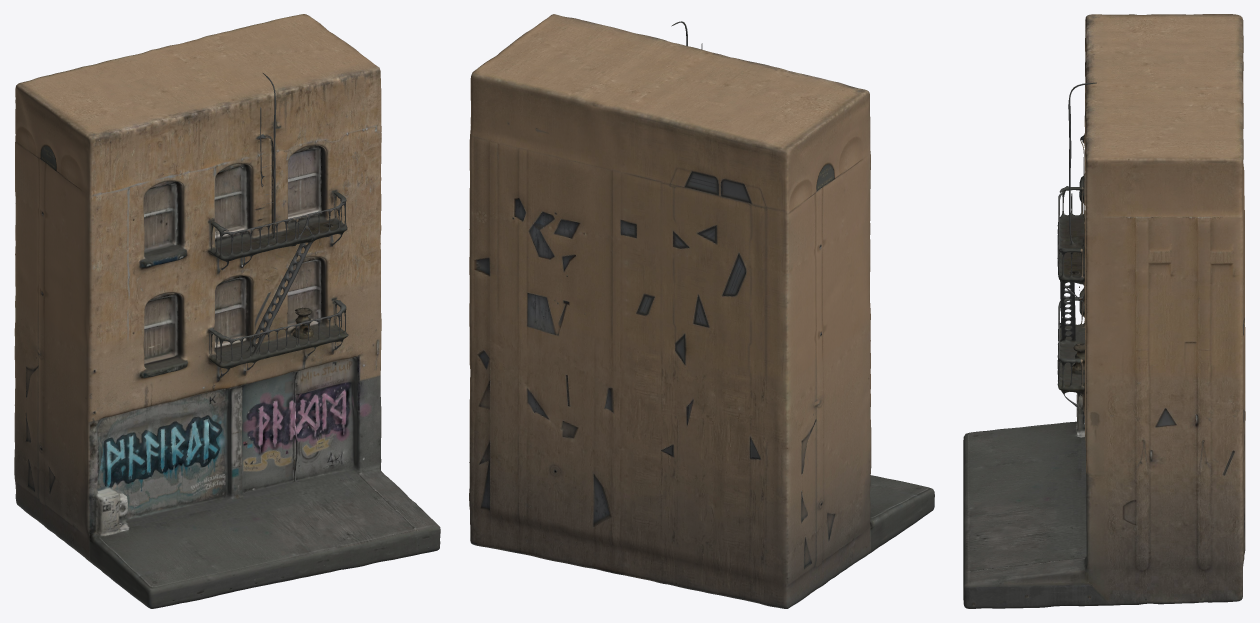
The model's file is arena-storefront.glb.
3 views of the same model, side by side, from view 1: azimuth 30°, elevation 25°; view 2: azimuth 150°, elevation 25°; view 3: azimuth 270°, elevation 25° (orthographic). The views are drawn at different scales.
Visible parts, largest first — view 1: tripo_node_9773d3e3; view 2: tripo_node_9773d3e3; view 3: tripo_node_9773d3e3.
Boxes of the visible parts, x1,y1,x2,y2 form: tripo_node_9773d3e3: [14, 14, 440, 608]; tripo_node_9773d3e3: [469, 14, 934, 608]; tripo_node_9773d3e3: [963, 14, 1245, 608].
Bounding box in the file's own units: 0.6723 × 0.9972 × 0.5425.
Materials: 1 (1 with a texture image).
